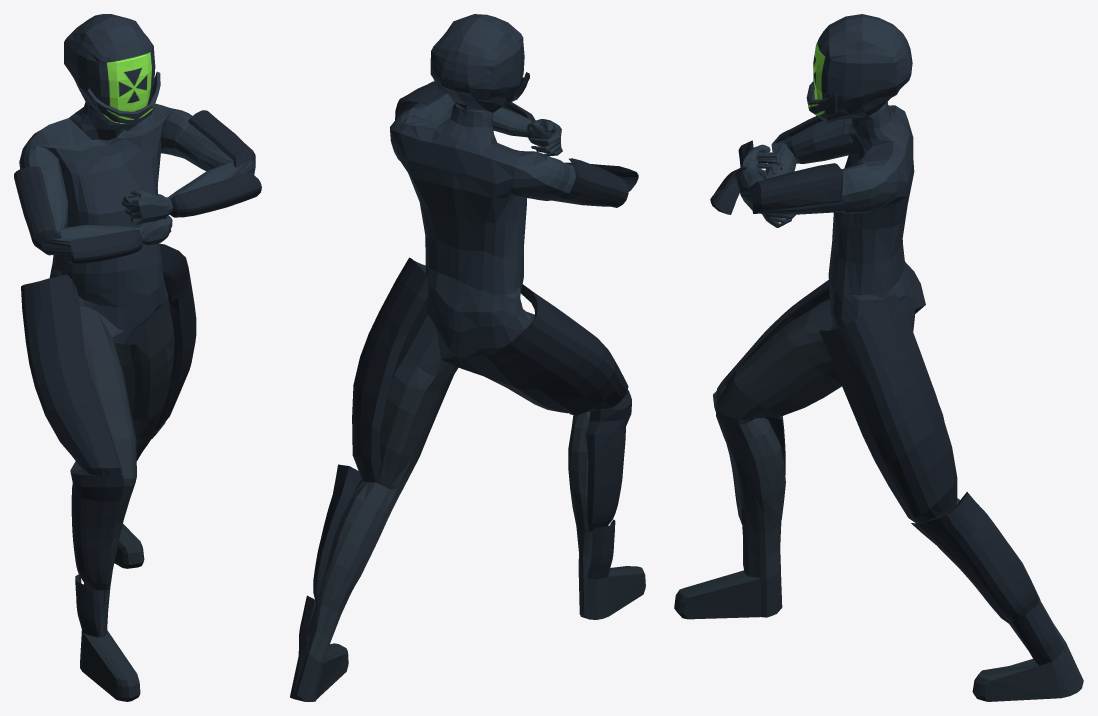
Rendered from Bastion_WB_000002.obj.
3 renders of one model, left to right at view 1: azimuth 30°, elevation 25°; view 2: azimuth 150°, elevation 25°; view 3: azimuth 270°, elevation 25°, orthographic. The views are drawn at different scales.
Visible parts, largest first — view 1: Cube.002; view 2: Cube.002; view 3: Cube.002.
Boxes of the visible parts, box(x1,y1,x2,y2) form: Cube.002: box(14, 14, 261, 701); Cube.002: box(290, 14, 645, 701); Cube.002: box(674, 14, 1083, 701).
Bounding box in the file's own units: 1.31 × 3.6 × 2.09.
